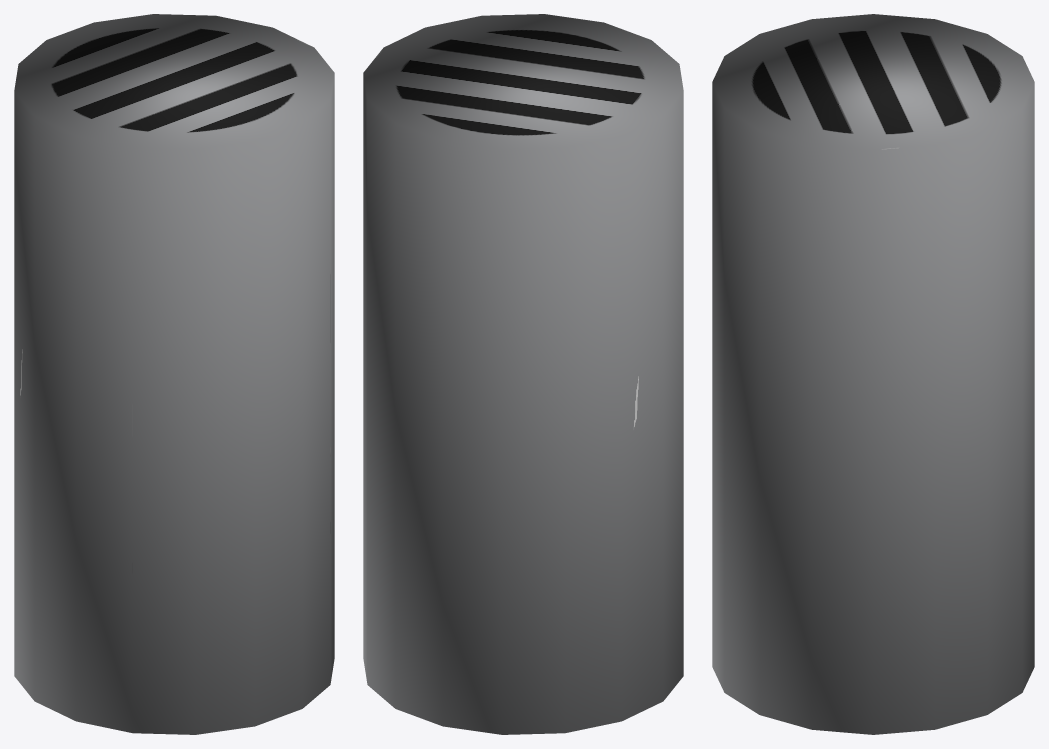
File: drain.fbx
The picture shows the model from 3 angles, left to right: view 1: azimuth 30°, elevation 25°; view 2: azimuth 150°, elevation 25°; view 3: azimuth 270°, elevation 25°; orthographic projection.
Parts seen in each view (by area): view 1: Cylinder; view 2: Cylinder; view 3: Cylinder.
Boxes of the visible parts, x1,y1,x2,y2 form: Cylinder: [14, 14, 334, 734]; Cylinder: [363, 14, 683, 734]; Cylinder: [712, 14, 1034, 734].
Bounding box in the file's own units: 1 × 2 × 1.
